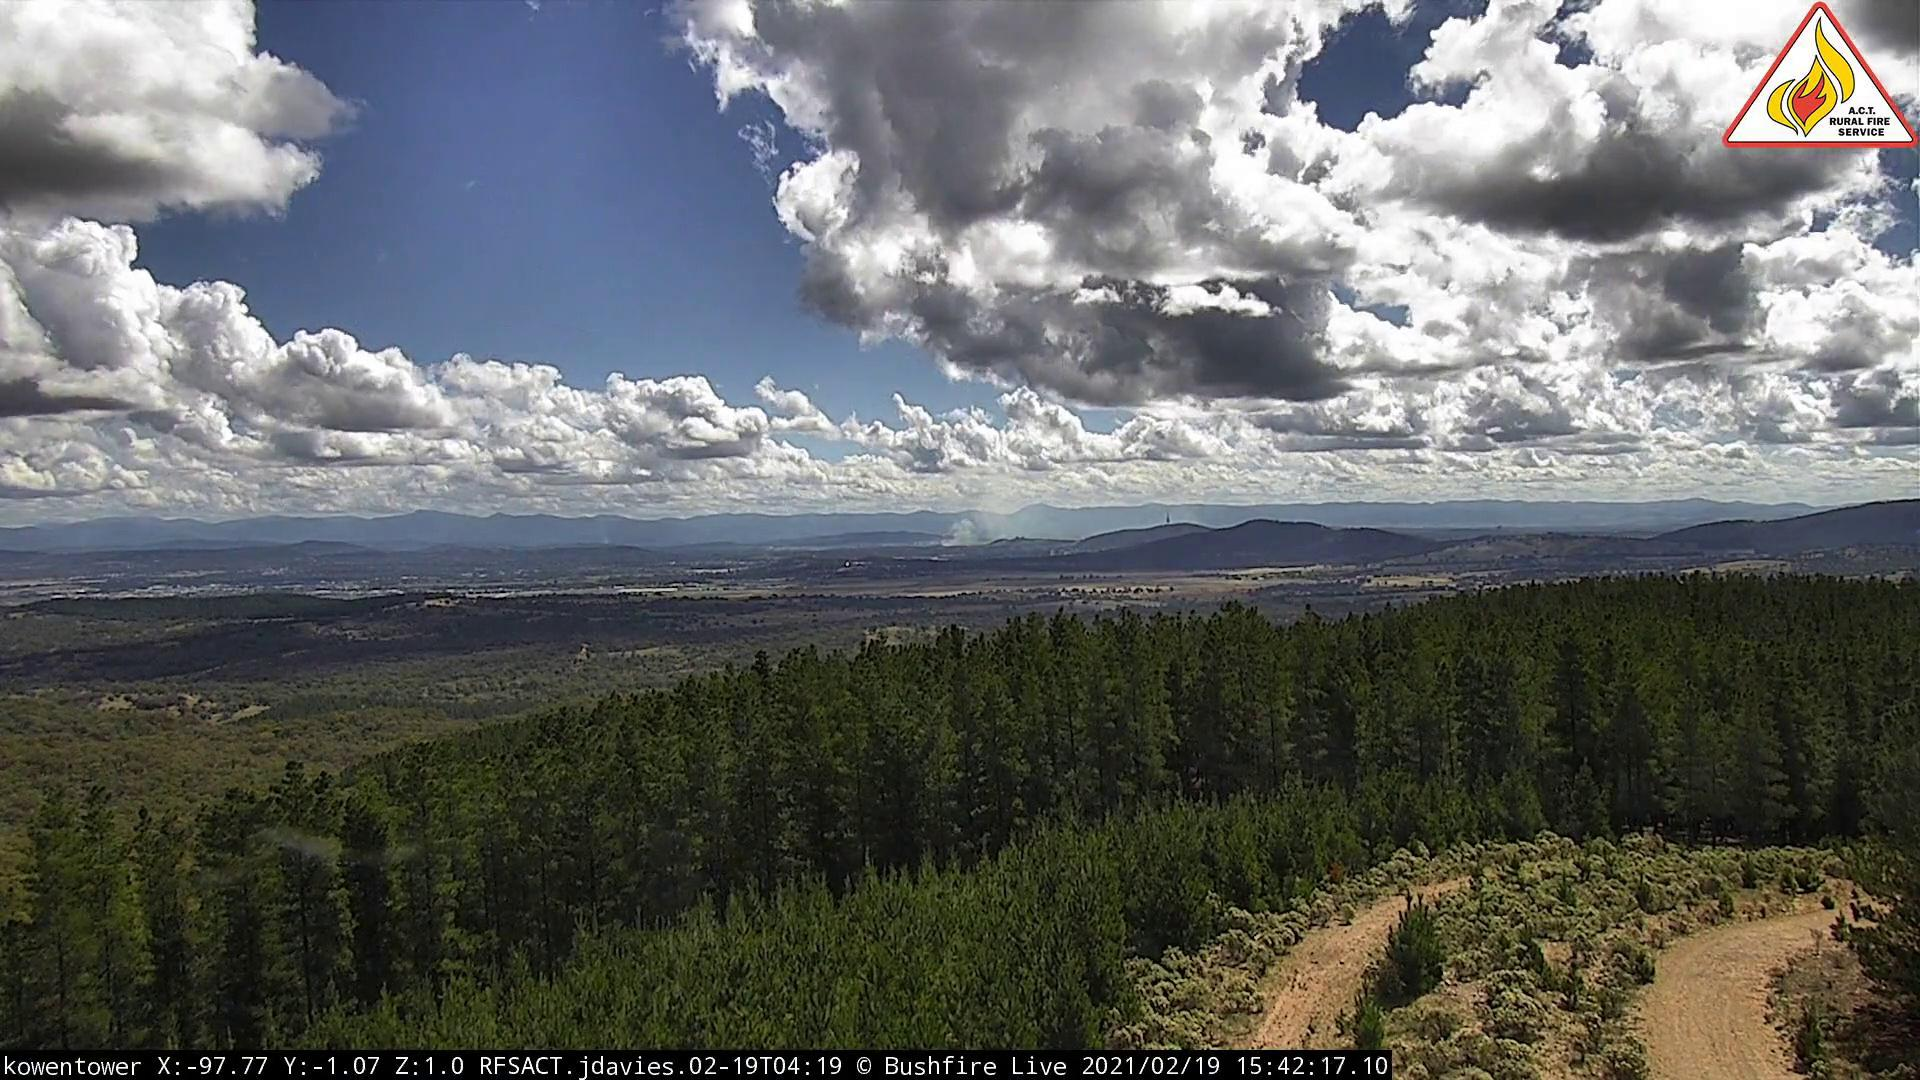instance_salient_object: (928, 501, 1021, 553), (595, 534, 622, 554)
